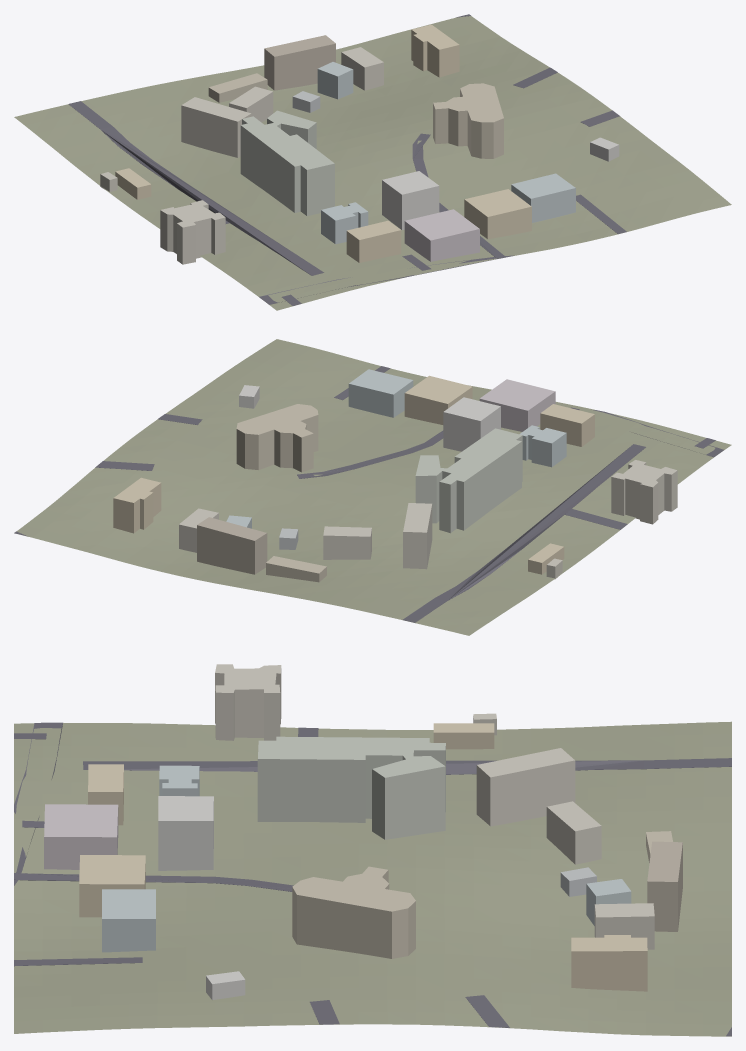
Rendered from chunk_4_0.glb.
3 views of the same model, one above another, from view 1: azimuth 30°, elevation 25°; view 2: azimuth 150°, elevation 25°; view 3: azimuth 270°, elevation 25° (orthographic). The views are drawn at different scales.
Parts seen in each view (by area): view 1: geometry_20, geometry_6, geometry_1, geometry_19, geometry_23, geometry_8, geometry_13, geometry_16, geometry_7, geometry_4, geometry_0, geometry_11 (+11 smaller); view 2: geometry_20, geometry_6, geometry_1, geometry_19, geometry_16, geometry_23, geometry_8, geometry_4, geometry_0, geometry_7, geometry_11, geometry_13 (+7 smaller); view 3: geometry_20, geometry_6, geometry_1, geometry_13, geometry_19, geometry_8, geometry_4, geometry_11, geometry_23, geometry_0, geometry_7, geometry_16 (+11 smaller).
Boxes of the visible parts, <box> form: geometry_20: <box>14,16,731,310</box>; geometry_6: <box>240,110,334,216</box>; geometry_1: <box>433,83,503,158</box>; geometry_19: <box>160,200,225,264</box>; geometry_23: <box>68,101,323,275</box>; geometry_8: <box>404,209,479,261</box>; geometry_13: <box>181,97,251,157</box>; geometry_16: <box>264,35,335,90</box>; geometry_7: <box>464,189,531,239</box>; geometry_4: <box>382,171,439,229</box>; geometry_0: <box>511,173,575,222</box>; geometry_11: <box>411,24,459,77</box>; geometry_20: <box>17,339,731,635</box>; geometry_6: <box>415,428,522,533</box>; geometry_1: <box>236,404,318,472</box>; geometry_19: <box>611,460,677,524</box>; geometry_16: <box>197,517,267,574</box>; geometry_23: <box>402,444,645,622</box>; geometry_8: <box>479,379,555,431</box>; geometry_4: <box>443,397,500,451</box>; geometry_0: <box>348,369,413,417</box>; geometry_7: <box>404,375,472,424</box>; geometry_11: <box>113,477,161,533</box>; geometry_13: <box>403,503,432,569</box>; geometry_20: <box>14,721,731,1036</box>; geometry_6: <box>257,736,445,839</box>; geometry_1: <box>292,866,415,958</box>; geometry_13: <box>476,748,575,826</box>; geometry_19: <box>215,664,281,740</box>; geometry_8: <box>44,804,118,869</box>; geometry_4: <box>158,796,213,870</box>; geometry_11: <box>571,935,647,991</box>; geometry_23: <box>83,758,731,774</box>; geometry_0: <box>102,889,155,952</box>; geometry_7: <box>79,855,145,917</box>; geometry_16: <box>647,841,682,931</box>.
Size of the model in its own units: 261 by 29.73 by 250.
